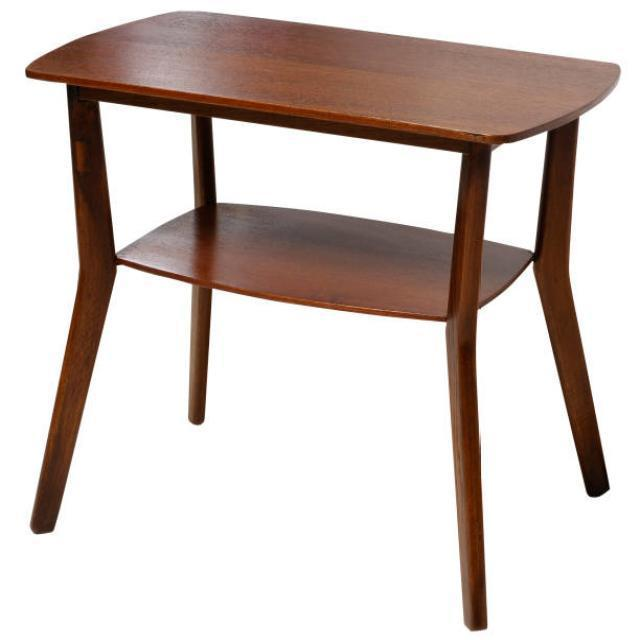table: (24, 8, 621, 630)
